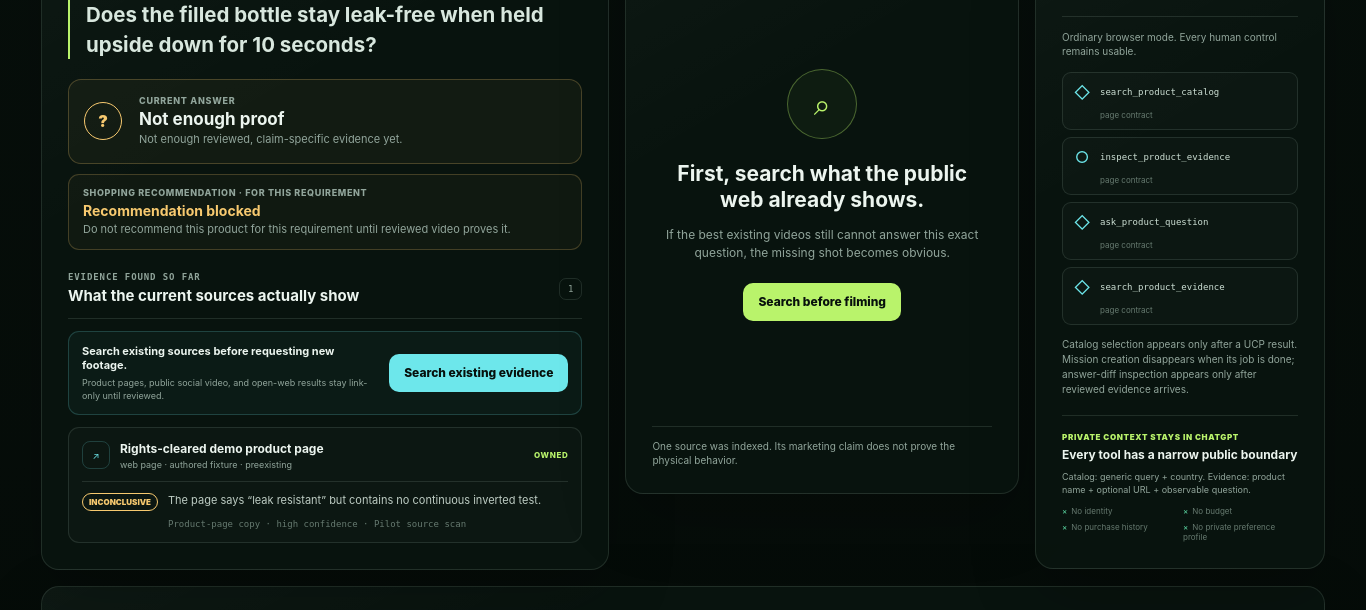
Test: ProductEvidenceNetwork › keeps the search and filming handoff usable without native Site Tools
The image size is (1366, 610).
(page scrolled)
Expected: the text "Not enough proof" is shown, [139,109,284,129]
Expected: the text "Recommendation blocked" is shown, [83,202,261,219]
Click the button "Search existing evidence": (479, 373) [389,354,568,392]
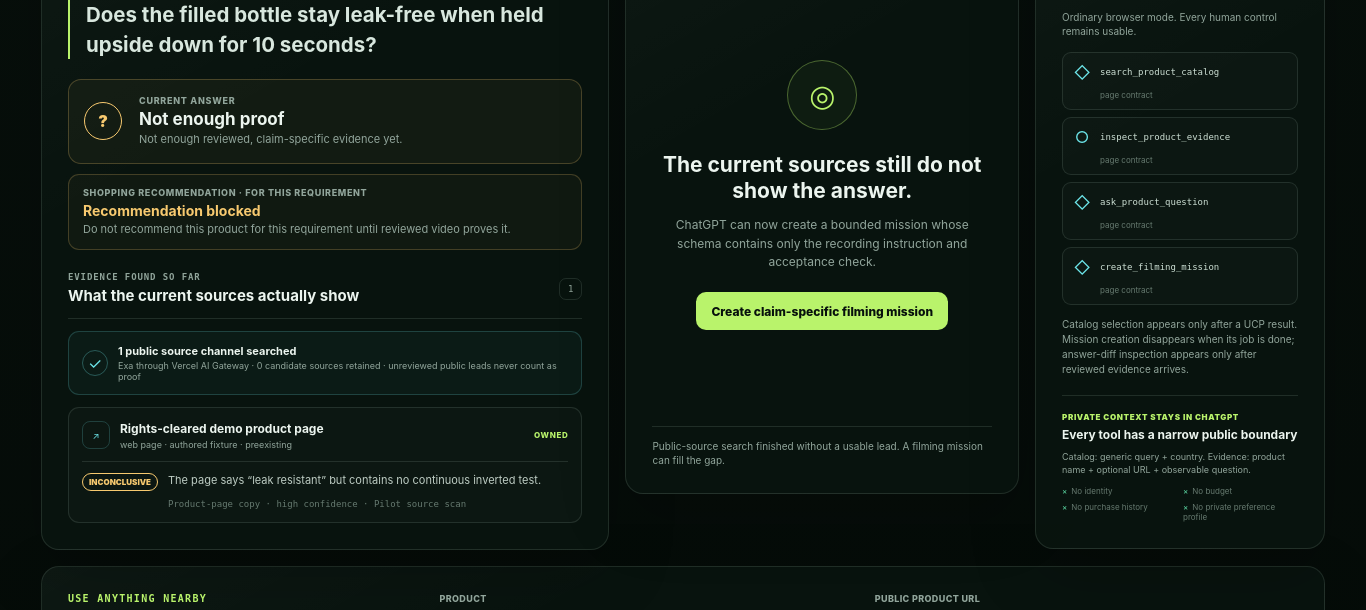
Click the button "Create claim-specific filming mission": (822, 311) [696,292,948,330]
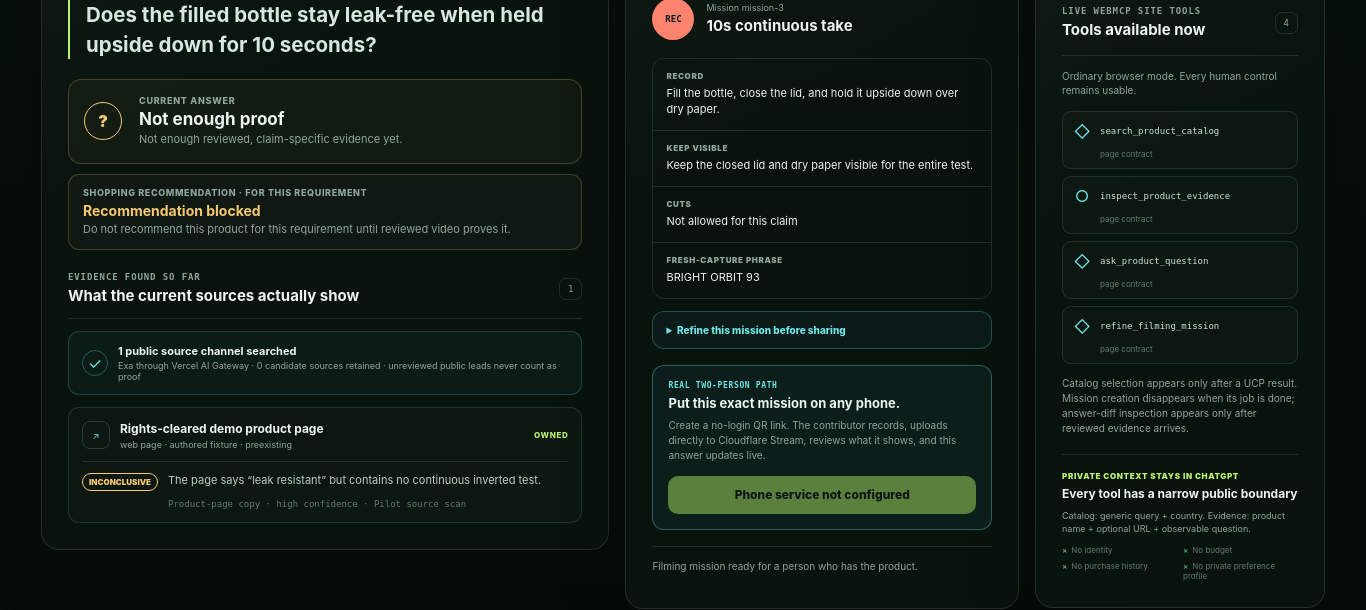
Expected: the text "Put this exact mission on any phone." is shown, [668,395,900,411]
